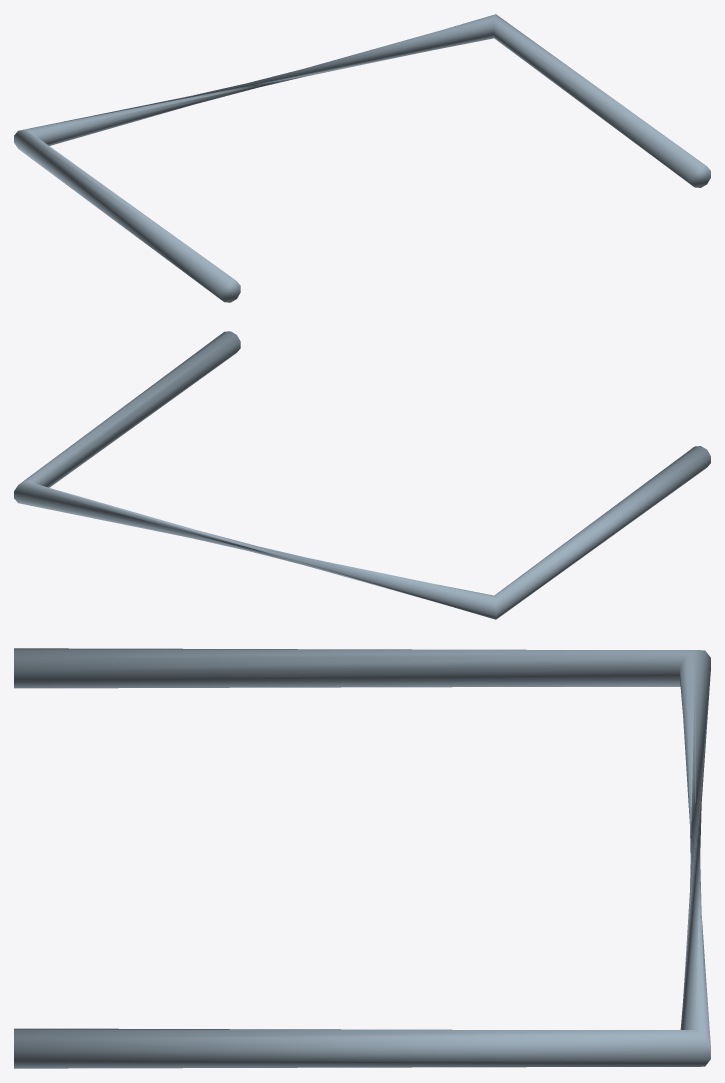
File: cable_support_rail.glb
3 views of the same model, one above another, from view 1: azimuth 30°, elevation 25°; view 2: azimuth 150°, elevation 25°; view 3: azimuth 270°, elevation 25° (orthographic). The views are drawn at different scales.
Parts seen in each view (by area): view 1: support; view 2: support; view 3: support.
Boxes of the visible parts, x1=… form: support: x1=14, y1=14, x2=710, y2=302; support: x1=14, y1=331, x2=710, y2=619; support: x1=14, y1=648, x2=710, y2=1068.
Size of the model in its own units: 0.6885 by 0.03 by 0.5114.
